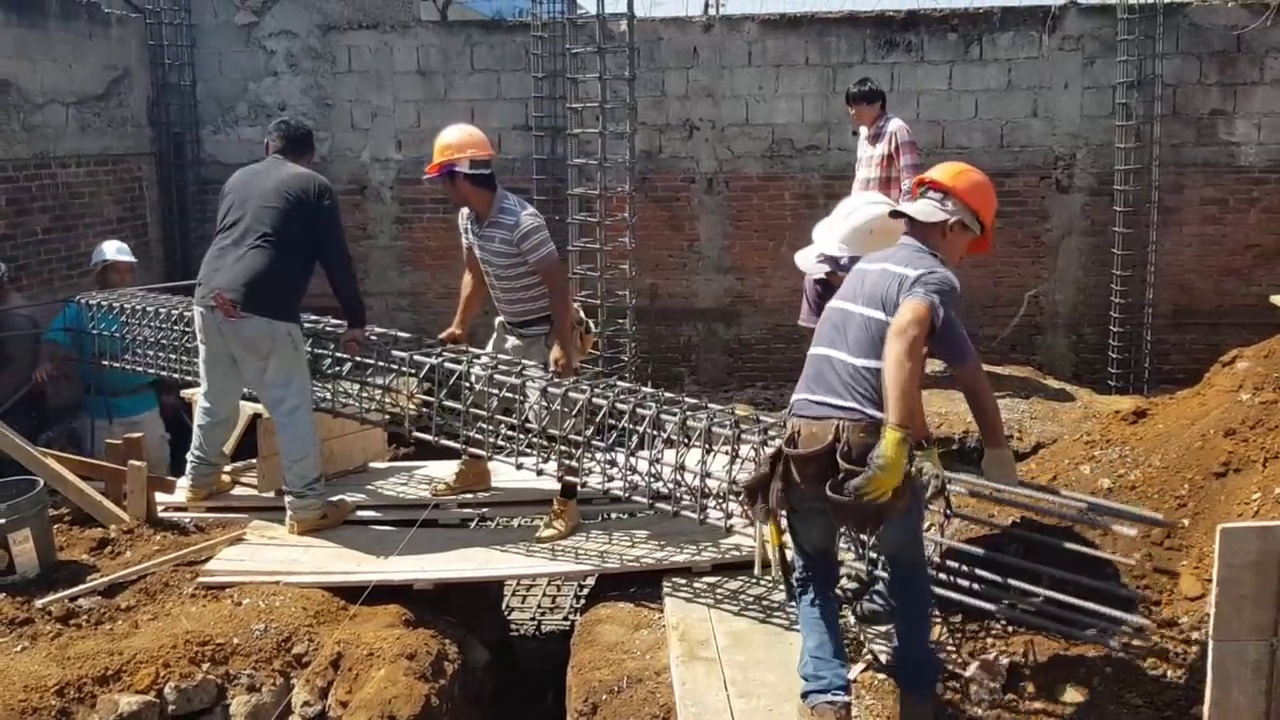helmet: (910, 161, 1000, 253), (810, 189, 908, 259), (422, 122, 499, 171), (86, 231, 138, 268)
helmet-off: (263, 119, 315, 170), (847, 74, 890, 125)
helmet-on: (888, 159, 1000, 268), (791, 188, 907, 291), (422, 123, 499, 210), (86, 235, 139, 297)
person: (778, 158, 1000, 720), (414, 123, 596, 543), (181, 119, 362, 534), (38, 235, 171, 478), (792, 182, 907, 346), (844, 74, 920, 200)
